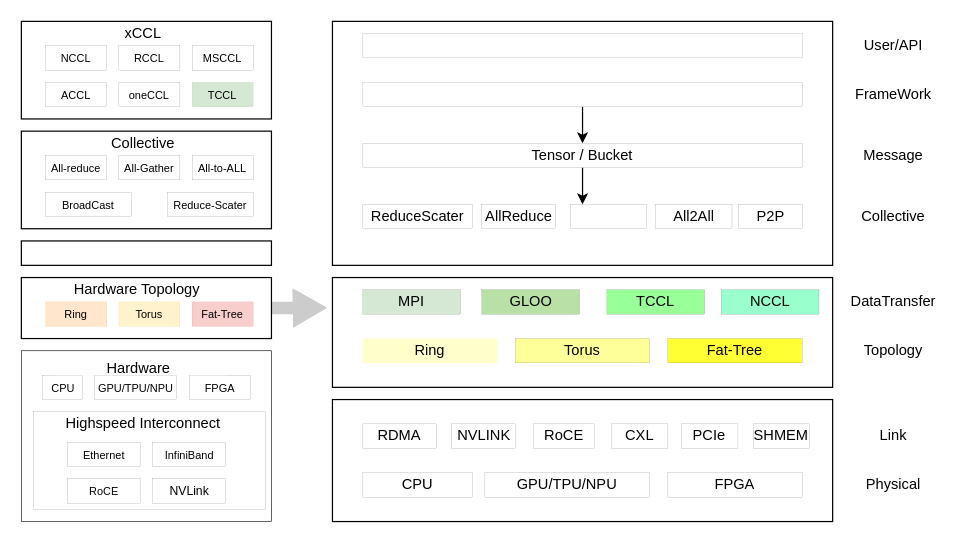
Some shapes in this 958 by 543 pixel diagram are drawn without their labels. The box of each missing label's shape, as (x1, y1, x2, y2) in pixels:
AllGather: (570, 204, 646, 228)
Megatron-LM: (362, 33, 802, 57)
P2P Communication: (20, 240, 271, 265)
Pytorch/Tensorflow/PaddlePaddle: (362, 82, 802, 106)
